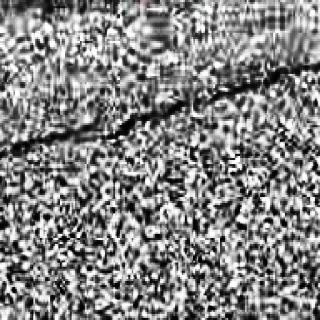crack: (2, 55, 320, 168)
